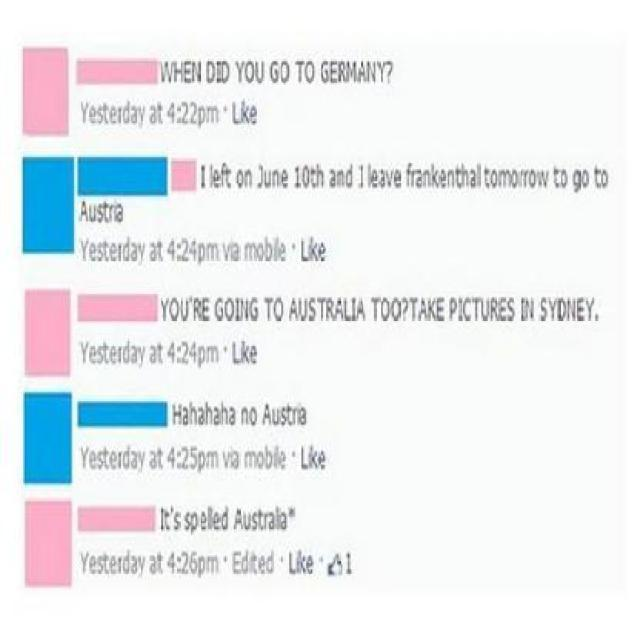0: (302, 164, 310, 190)
1: (344, 552, 352, 576), (294, 164, 300, 188)
2: (180, 100, 188, 123), (182, 238, 190, 260), (182, 342, 190, 364), (180, 552, 188, 574), (182, 445, 188, 470), (191, 102, 197, 125)
4: (188, 236, 196, 262), (167, 340, 175, 366), (189, 342, 197, 364), (168, 552, 175, 576), (168, 102, 175, 125), (168, 238, 175, 260), (168, 446, 174, 468)
5: (190, 445, 198, 470)
6: (190, 551, 198, 577)
A: (262, 402, 272, 426), (234, 506, 243, 532), (418, 296, 427, 322), (228, 406, 238, 428), (288, 298, 298, 320), (357, 60, 366, 83), (334, 296, 343, 319), (80, 199, 88, 224), (415, 167, 423, 190), (130, 241, 138, 264), (197, 404, 205, 427), (149, 554, 157, 577), (212, 406, 220, 428), (149, 448, 157, 470), (357, 298, 365, 320), (149, 104, 157, 124), (328, 168, 336, 188), (378, 168, 386, 188), (116, 203, 124, 223), (149, 242, 157, 262), (130, 344, 138, 364), (300, 407, 308, 427), (130, 450, 138, 470), (232, 450, 240, 470), (280, 512, 288, 532), (130, 105, 138, 124), (148, 345, 156, 363), (470, 168, 476, 188), (131, 556, 137, 576), (233, 242, 239, 261), (268, 512, 274, 531), (182, 406, 188, 424)
B: (265, 444, 273, 470), (264, 236, 272, 261)
C: (462, 295, 472, 320)
D: (207, 60, 216, 84), (221, 59, 230, 82), (345, 163, 353, 188), (220, 506, 228, 531), (266, 549, 274, 574), (557, 298, 566, 320), (123, 98, 129, 124), (123, 236, 129, 262), (123, 444, 129, 470), (123, 548, 129, 574), (123, 340, 129, 365), (242, 549, 248, 574)
E: (201, 296, 210, 322), (437, 296, 445, 322), (576, 296, 584, 322), (498, 296, 507, 319), (232, 550, 240, 575), (184, 59, 192, 82), (330, 59, 338, 82), (249, 103, 257, 126), (109, 556, 118, 576), (109, 105, 118, 124), (212, 168, 220, 188), (280, 169, 288, 189), (393, 169, 401, 189), (88, 241, 96, 261), (109, 242, 117, 262), (278, 242, 286, 262), (249, 346, 257, 366), (88, 450, 96, 470), (278, 451, 286, 471), (318, 450, 326, 470), (199, 512, 207, 532), (258, 554, 266, 574), (306, 556, 314, 576), (88, 106, 96, 125), (318, 243, 326, 262), (212, 512, 220, 531), (88, 555, 96, 574), (88, 345, 96, 363), (109, 346, 117, 364), (108, 452, 116, 470), (371, 169, 378, 189), (440, 168, 446, 188)
F: (220, 161, 226, 187), (406, 161, 412, 187)
G: (270, 60, 279, 86), (214, 294, 223, 320), (573, 168, 581, 194), (250, 295, 258, 320), (321, 60, 328, 84)
H: (172, 402, 182, 426), (220, 398, 228, 424), (174, 60, 183, 83), (189, 399, 197, 424), (205, 400, 213, 425), (316, 162, 324, 186), (461, 163, 468, 188)
I: (159, 504, 164, 530), (200, 164, 205, 188), (359, 164, 364, 187), (352, 296, 357, 319), (114, 196, 118, 221), (248, 552, 252, 576), (240, 339, 243, 364), (216, 60, 219, 83), (240, 100, 243, 123), (273, 236, 276, 259), (277, 507, 280, 530), (521, 296, 524, 319), (230, 446, 233, 468), (296, 552, 299, 574), (273, 447, 276, 467), (460, 295, 462, 320), (298, 402, 300, 426), (230, 237, 232, 260), (308, 237, 310, 260), (308, 446, 310, 468), (236, 298, 238, 320)
J: (257, 164, 263, 188)
K: (242, 98, 250, 124), (242, 340, 250, 365), (428, 295, 436, 320), (310, 444, 318, 468), (431, 161, 438, 187), (300, 548, 306, 574), (311, 236, 317, 261)
L: (232, 102, 240, 125), (344, 296, 352, 319), (302, 236, 308, 262), (233, 340, 239, 365), (301, 446, 307, 468), (290, 552, 296, 574), (276, 444, 279, 470), (276, 236, 279, 261), (477, 162, 480, 185), (368, 161, 370, 187), (208, 504, 210, 530), (210, 504, 212, 530), (276, 504, 278, 530), (210, 162, 212, 186)
M: (243, 450, 257, 470), (206, 554, 220, 574), (206, 343, 219, 363), (207, 105, 220, 124), (206, 242, 219, 261), (206, 450, 219, 468), (244, 242, 256, 261), (499, 168, 510, 188), (347, 60, 356, 83)
N: (525, 295, 533, 320), (240, 298, 249, 320), (192, 60, 200, 83), (368, 60, 376, 83), (567, 298, 575, 320), (272, 168, 280, 188), (447, 169, 455, 188), (423, 168, 431, 186), (240, 406, 248, 424), (245, 169, 252, 188), (338, 169, 344, 188)
O: (302, 60, 316, 85), (272, 296, 285, 322), (380, 296, 391, 322), (390, 296, 401, 322), (224, 296, 233, 322), (280, 60, 289, 85), (246, 60, 254, 83), (170, 298, 178, 320), (235, 168, 243, 188), (490, 168, 498, 188), (560, 168, 568, 188), (249, 406, 257, 426), (257, 450, 265, 470), (510, 169, 518, 188), (528, 169, 536, 188), (582, 169, 590, 188), (257, 242, 265, 261), (602, 168, 608, 188)
P: (190, 512, 198, 538), (449, 298, 457, 322), (198, 344, 205, 370), (198, 450, 205, 476), (198, 106, 206, 128), (198, 242, 205, 266), (198, 556, 205, 578)
R: (192, 296, 202, 322), (490, 298, 498, 322), (338, 60, 346, 82), (326, 298, 334, 320), (116, 242, 122, 262), (117, 450, 123, 470), (522, 169, 528, 188), (108, 203, 114, 222), (117, 555, 123, 574), (410, 168, 416, 186), (116, 346, 122, 364), (292, 406, 298, 424), (519, 169, 524, 188), (263, 512, 268, 531), (118, 105, 122, 124)
S: (308, 296, 317, 322), (508, 296, 516, 322), (538, 297, 546, 323), (96, 104, 104, 124), (97, 203, 103, 223), (97, 344, 103, 364), (280, 406, 286, 426), (184, 512, 190, 532), (252, 512, 258, 532), (97, 554, 103, 574), (97, 243, 103, 262), (174, 512, 180, 531), (97, 450, 103, 468)
T: (371, 296, 380, 322), (264, 295, 273, 320), (472, 295, 480, 320), (296, 59, 304, 82), (156, 102, 164, 125), (317, 296, 325, 319), (410, 296, 418, 319), (103, 236, 109, 262), (103, 444, 109, 470), (104, 550, 110, 576), (103, 340, 109, 365), (157, 550, 163, 575), (252, 550, 258, 575), (103, 198, 109, 222), (164, 508, 170, 532), (226, 167, 232, 190), (310, 165, 316, 188), (484, 165, 490, 188), (287, 403, 293, 426), (594, 166, 600, 188), (157, 238, 163, 260), (157, 342, 163, 364), (157, 448, 163, 470), (258, 508, 264, 530), (455, 165, 460, 188), (104, 102, 108, 125), (554, 166, 558, 188)
U: (180, 296, 189, 322), (298, 296, 308, 319), (480, 298, 489, 320), (256, 61, 264, 84), (264, 169, 272, 188), (243, 512, 251, 531), (88, 204, 96, 222), (272, 406, 280, 424)
V: (385, 169, 393, 188), (222, 242, 230, 261), (222, 450, 230, 468)
W: (160, 60, 174, 85), (536, 170, 549, 188)
Y: (137, 344, 146, 370), (376, 60, 386, 83), (137, 449, 146, 474), (548, 298, 558, 320), (80, 444, 88, 470), (234, 61, 243, 84), (137, 105, 146, 128), (80, 340, 88, 365), (80, 550, 88, 575), (160, 298, 169, 320), (138, 242, 146, 266), (80, 100, 88, 123), (80, 237, 88, 260), (586, 296, 594, 319), (138, 556, 144, 578)
